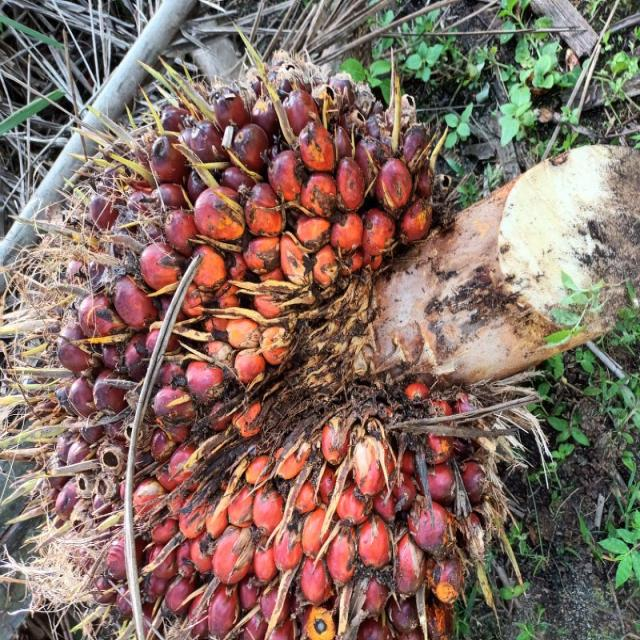fraksi 3: (0, 57, 448, 640)
